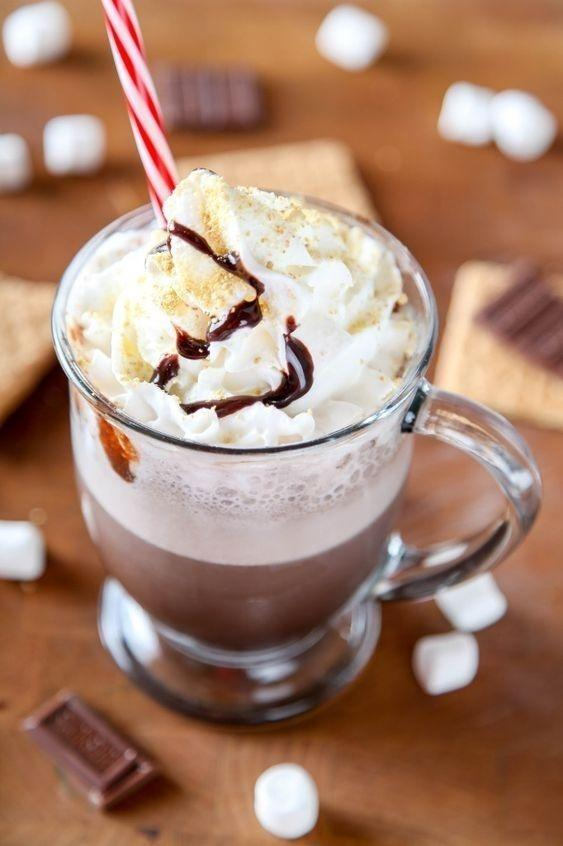glass-mug: (50, 170, 546, 720)
